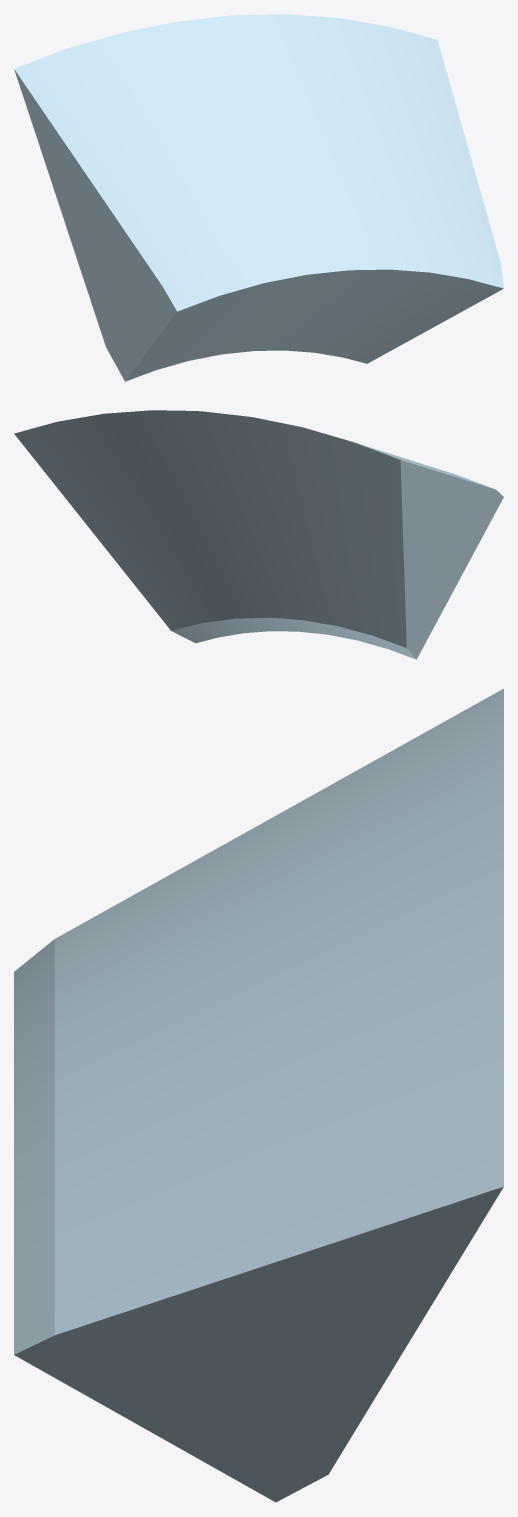
The model's file is Sub_3_Cell_3_3.gltf.
3 renders of one model, top to bottom at view 1: azimuth 30°, elevation 25°; view 2: azimuth 150°, elevation 25°; view 3: azimuth 270°, elevation 25°, orthographic. The views are drawn at different scales.
Parts seen in each view (by area): view 1: Sub_3_Cell_3_3; view 2: Sub_3_Cell_3_3; view 3: Sub_3_Cell_3_3.
Boxes of the visible parts, x1,y1,x2,y2 form: Sub_3_Cell_3_3: [14, 14, 503, 381]; Sub_3_Cell_3_3: [14, 410, 503, 659]; Sub_3_Cell_3_3: [14, 688, 503, 1502].
Size of the model in its own units: 0.0863 by 0.0639 by 0.0488.
